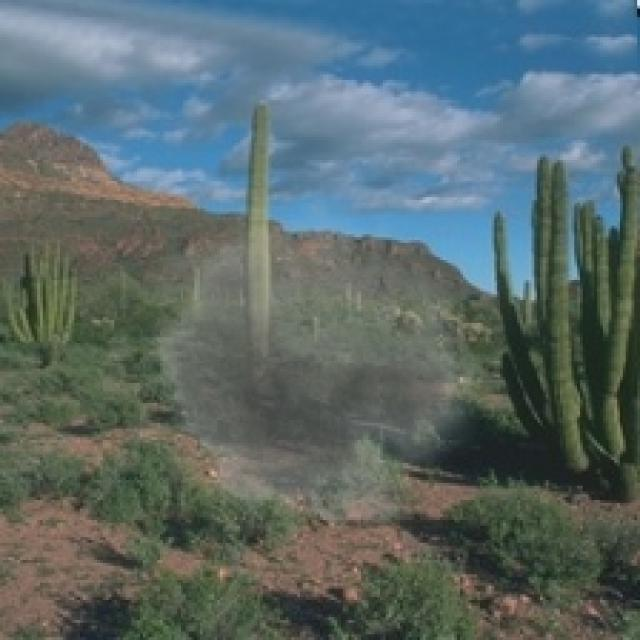smoke: (134, 188, 483, 543)
